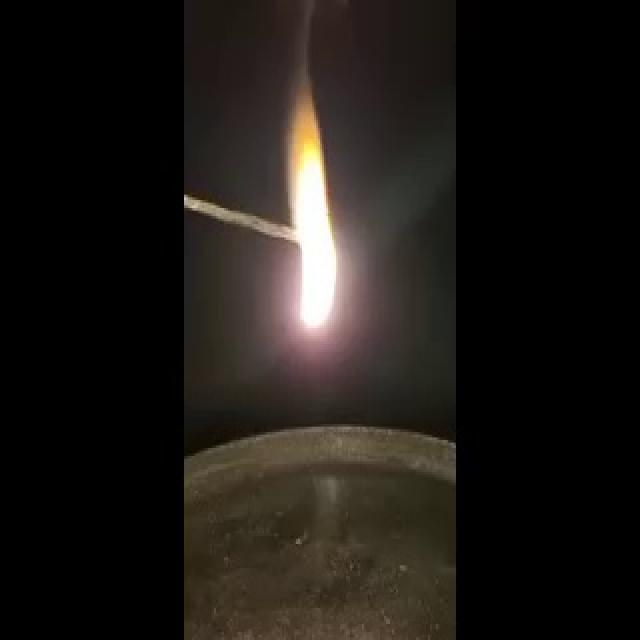fire: (278, 114, 348, 344)
